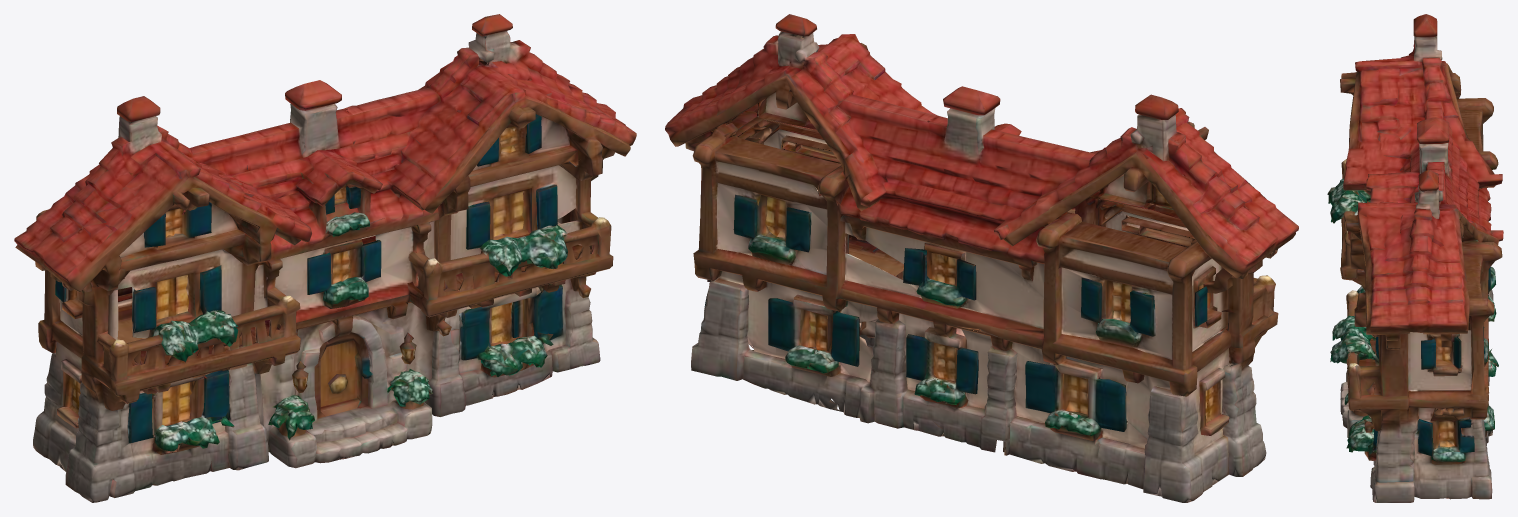
The model's file is candidate.glb.
The picture shows the model from 3 angles, left to right: view 1: azimuth 30°, elevation 25°; view 2: azimuth 150°, elevation 25°; view 3: azimuth 270°, elevation 25°; orthographic projection. The views are drawn at different scales.
Visible parts, largest first — view 1: alpine__skyscraper_2__native_mobile; view 2: alpine__skyscraper_2__native_mobile; view 3: alpine__skyscraper_2__native_mobile.
Boxes of the visible parts, x1,y1,x2,y2 form: alpine__skyscraper_2__native_mobile: (14, 14, 636, 502); alpine__skyscraper_2__native_mobile: (665, 14, 1298, 502); alpine__skyscraper_2__native_mobile: (1327, 14, 1503, 502).
Size of the model in its own units: 1 by 0.6039 by 0.3035.
1 material, 1 textured.
